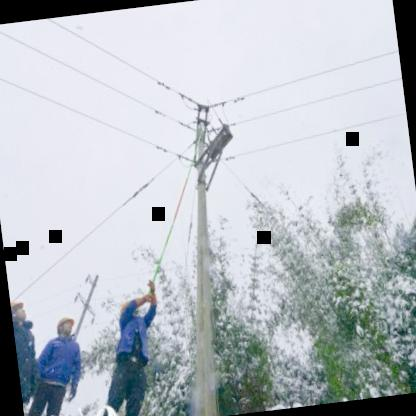helmet: (10, 293, 31, 335), (51, 310, 79, 340)
